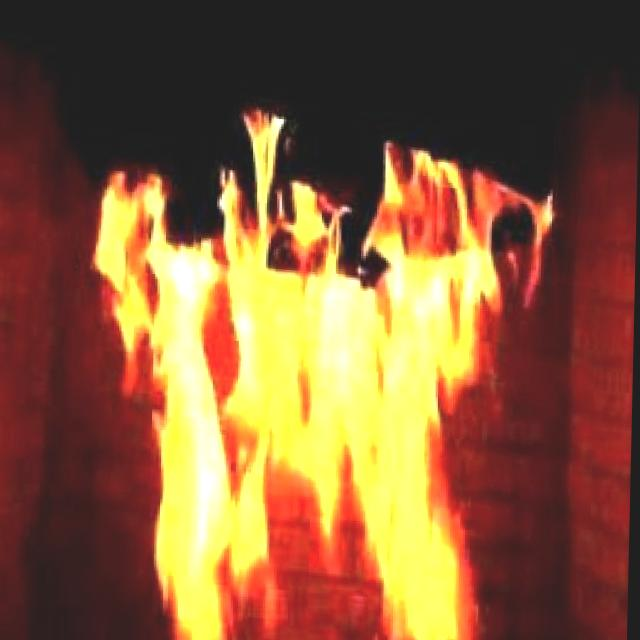helmet: (79, 95, 563, 640)
